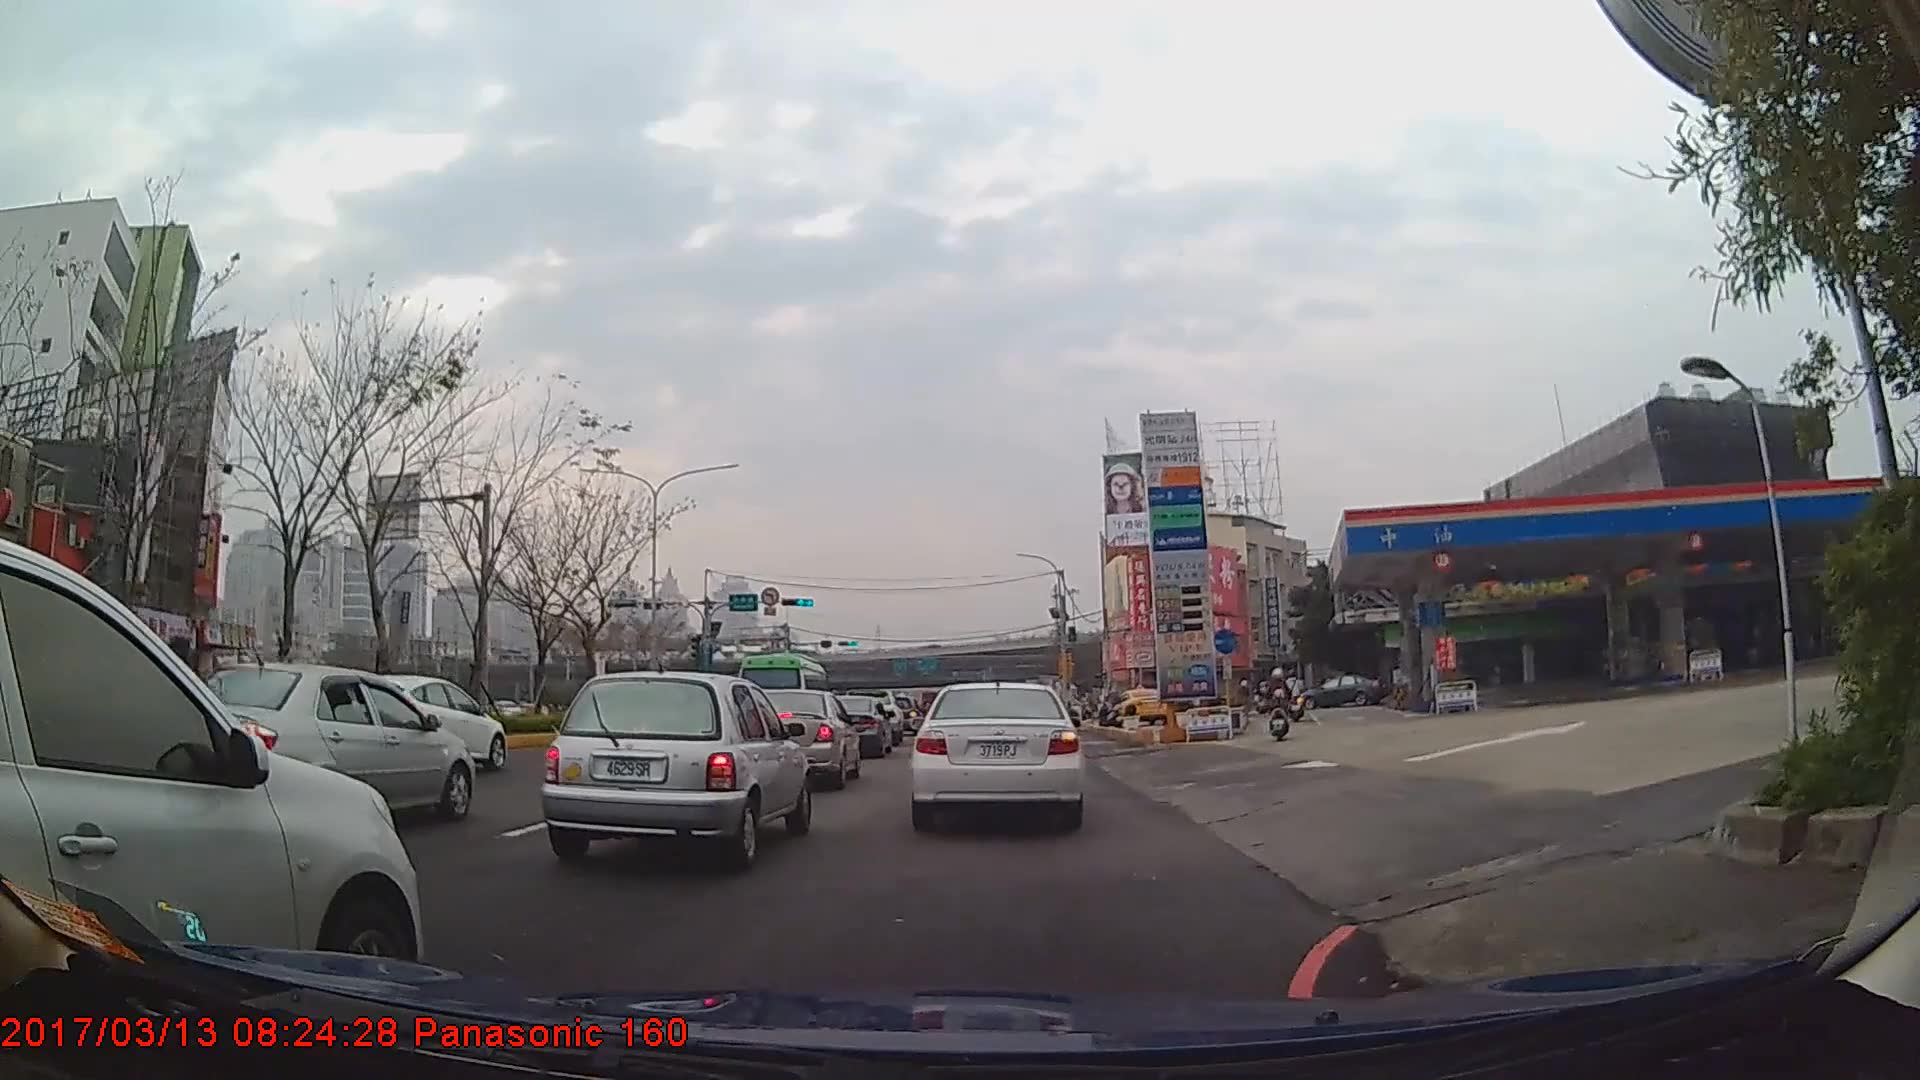rider: (1269, 668, 1294, 739), (1283, 670, 1306, 720)
vehicle: (0, 539, 423, 1020), (539, 670, 809, 864), (157, 659, 469, 822), (911, 678, 1082, 830), (330, 670, 505, 768), (735, 685, 862, 791), (732, 648, 828, 728), (814, 693, 893, 756), (1294, 673, 1385, 709), (1113, 686, 1169, 724)
